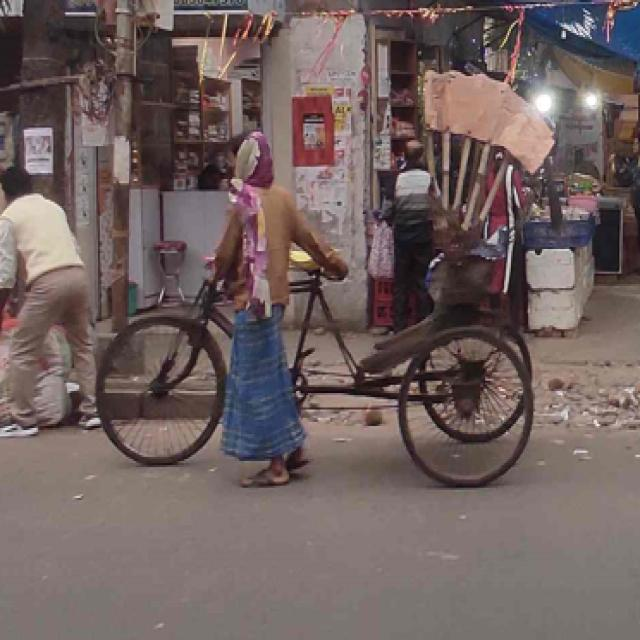rickshaw: (93, 68, 547, 500)
